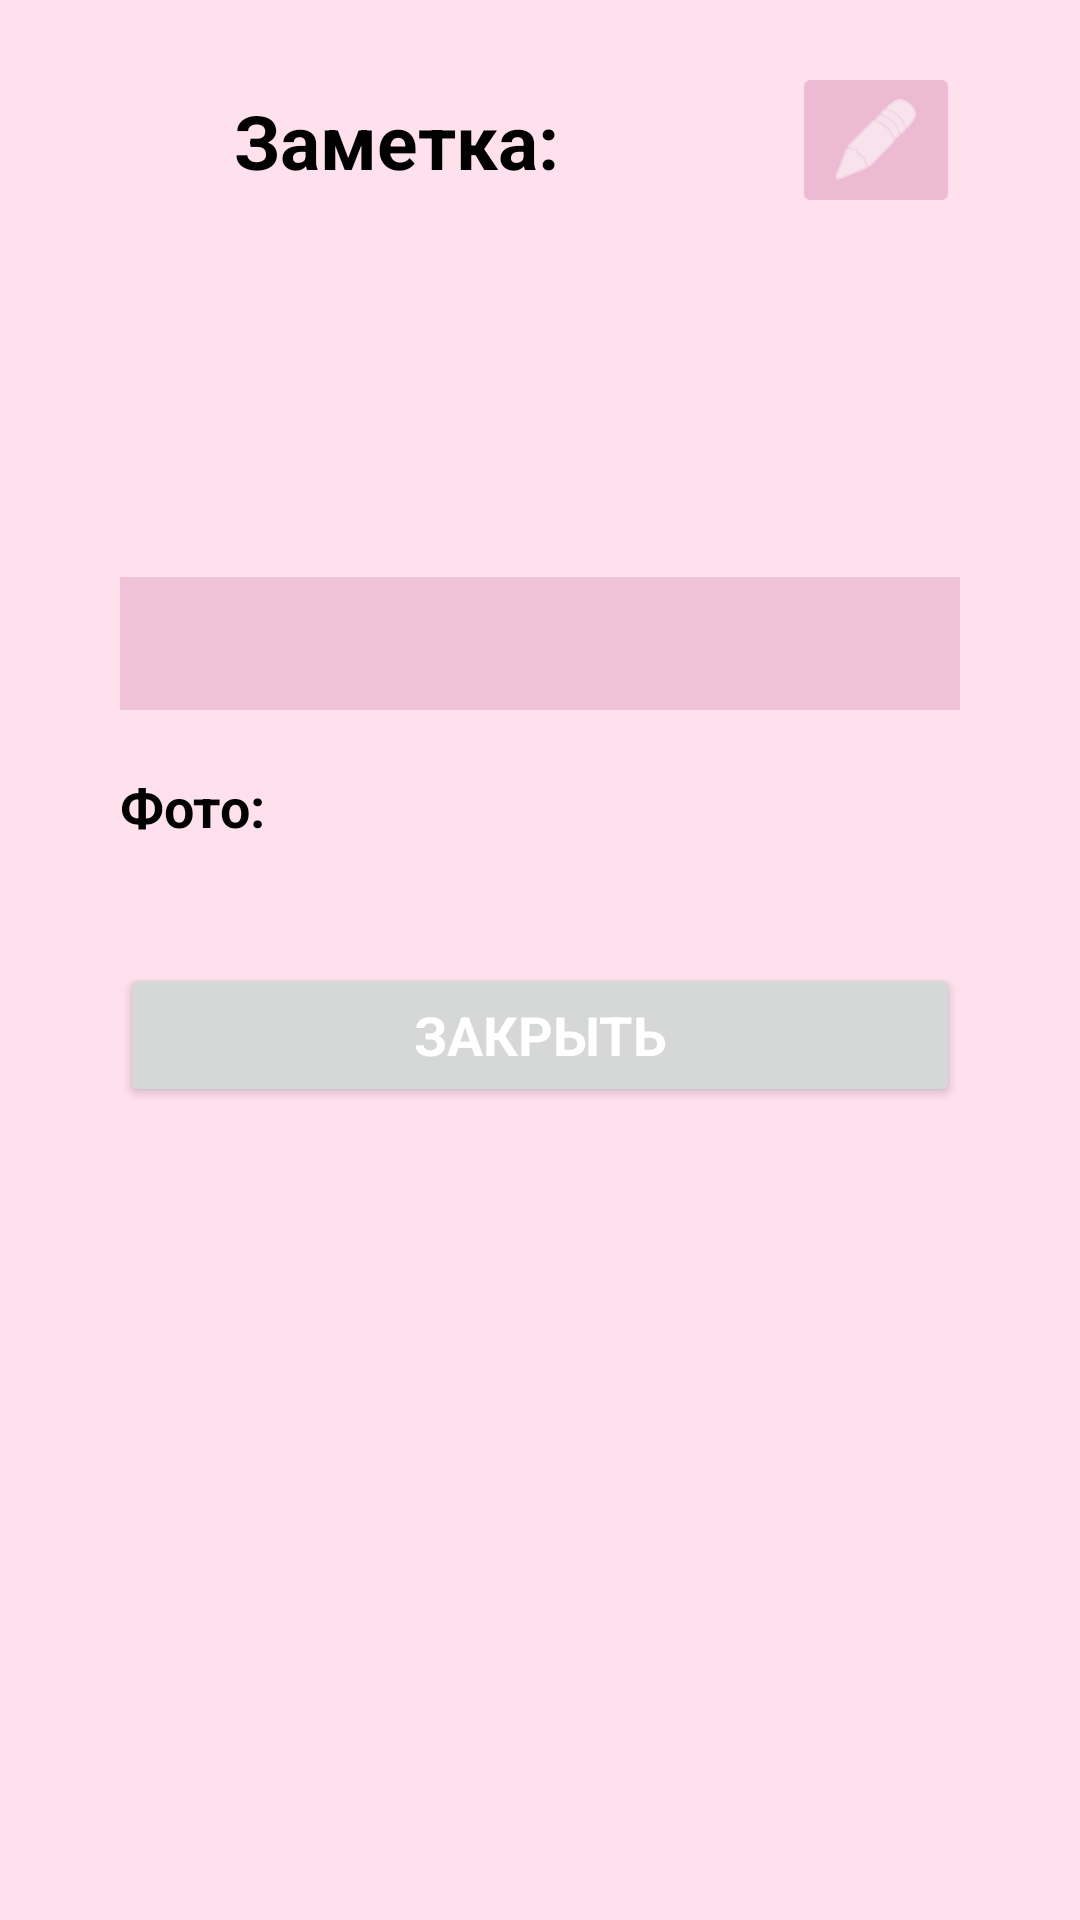

Where icons sit on this 1080×1920 app screen, as region(x1, y1, x2, y2):
Редактировать: region(804, 80, 948, 200)
